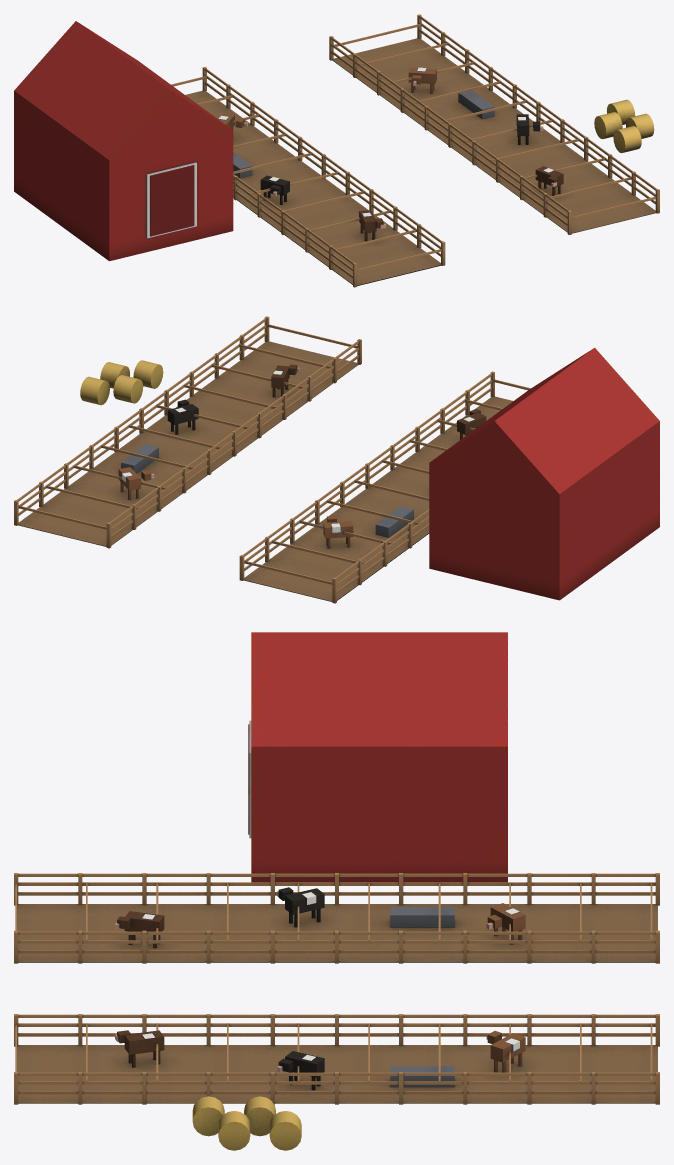
The model's file is corrales.glb.
3 views of the same model, one above another, from view 1: azimuth 30°, elevation 25°; view 2: azimuth 150°, elevation 25°; view 3: azimuth 270°, elevation 25° (orthographic). The views are drawn at different scales.
Parts seen in each view (by area): view 1: corrales; view 2: corrales; view 3: corrales.
Boxes of the visible parts, x1,y1,x2,y2 form: corrales: [14, 14, 659, 287]; corrales: [14, 316, 659, 603]; corrales: [14, 632, 659, 1150].
Bounding box in the file's own units: 38.7 × 10.8 × 30.2.
1 material, 1 textured.
